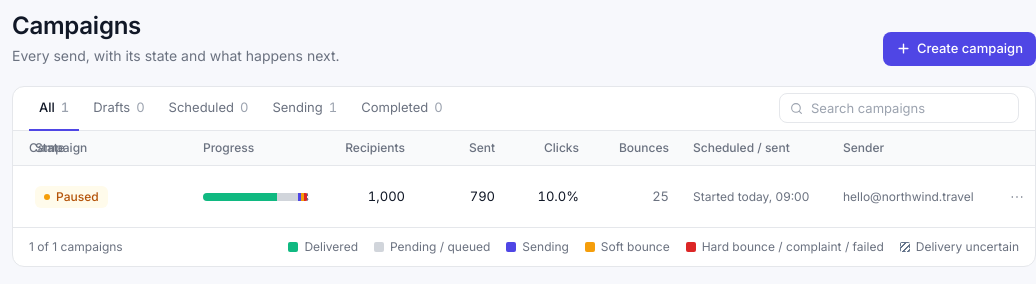
Test case: the campaigns list (G1) › offers only the actions the state allows
Expected: the table named "Campaigns" is shown, [13,131,1035,228]
Click the button named "Actions for Autumn Escapes".
click(1017, 196)  # box [1003,182,1031,210]
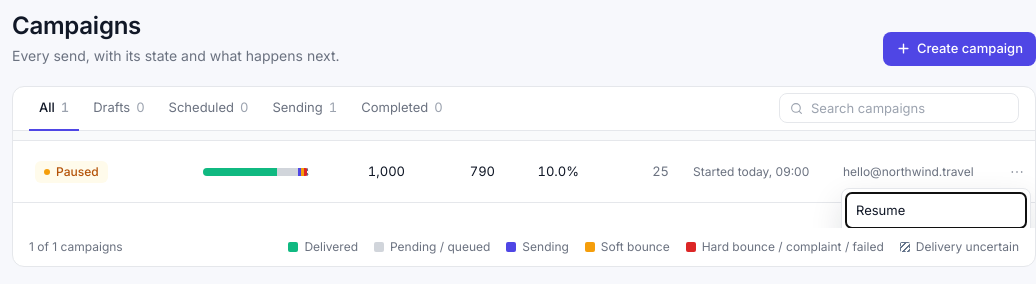
Expected: the menu item "Resume" is shown, [846,192,1026,228]
